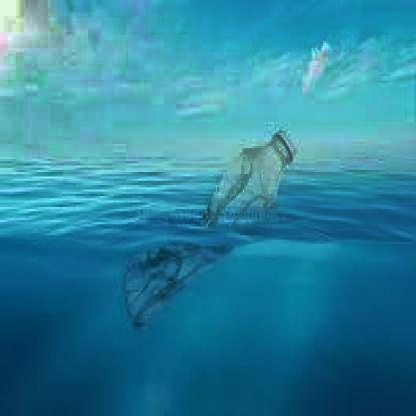pbottle: (112, 124, 299, 336)
